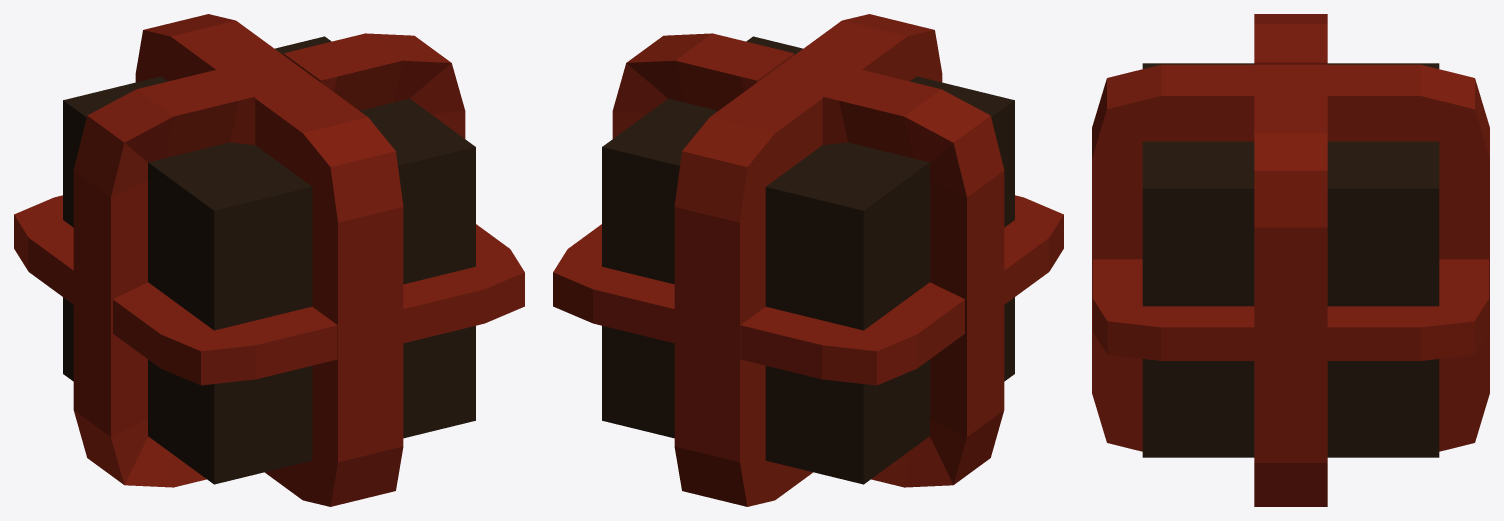
File: Health Pack1.glb
The picture shows the model from 3 angles, left to right: view 1: azimuth 30°, elevation 25°; view 2: azimuth 150°, elevation 25°; view 3: azimuth 270°, elevation 25°; orthographic projection.
Parts seen in each view (by area): view 1: Cube.012; view 2: Cube.012; view 3: Cube.012.
Boxes of the visible parts, <box> form: Cube.012: <box>14,14,524,506</box>; Cube.012: <box>553,14,1063,506</box>; Cube.012: <box>1092,14,1489,506</box>.
Size of the model in its own units: 2.71 by 2.71 by 2.68.
1 material, 1 textured.
